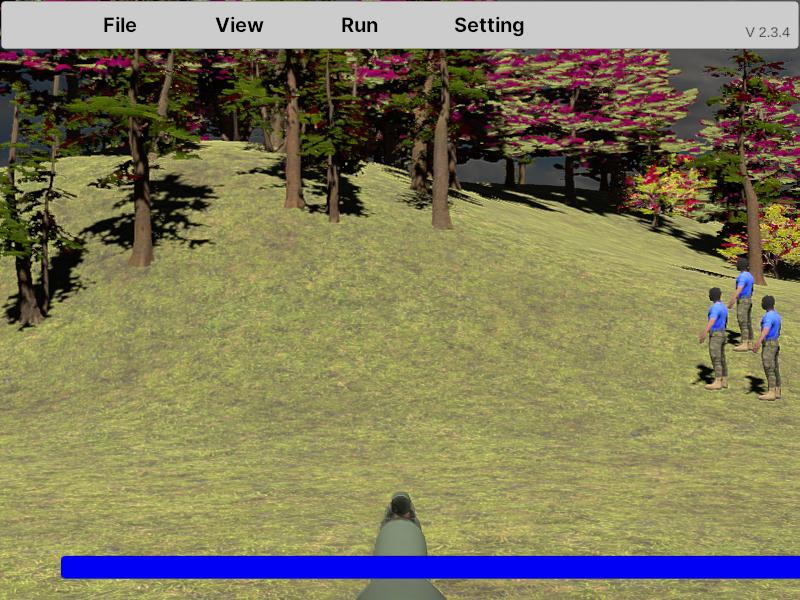Human: (700, 286, 729, 391), (755, 295, 781, 402), (731, 257, 755, 352)
